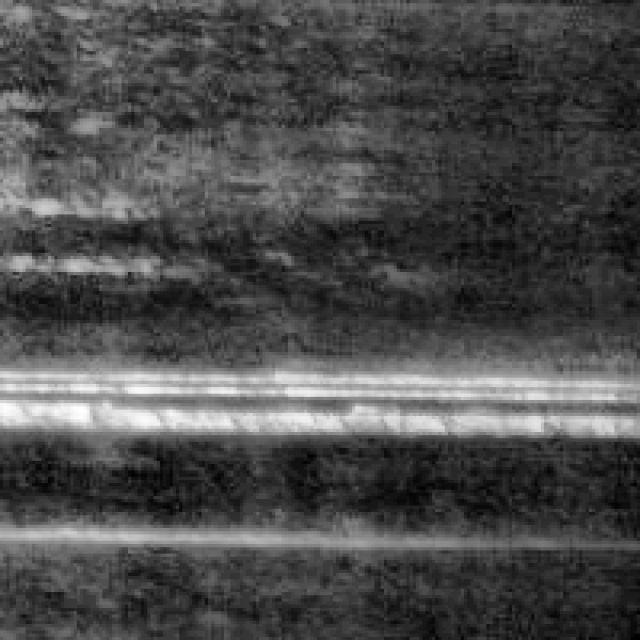Inclusion: (0, 352, 621, 442), (0, 506, 563, 550)
